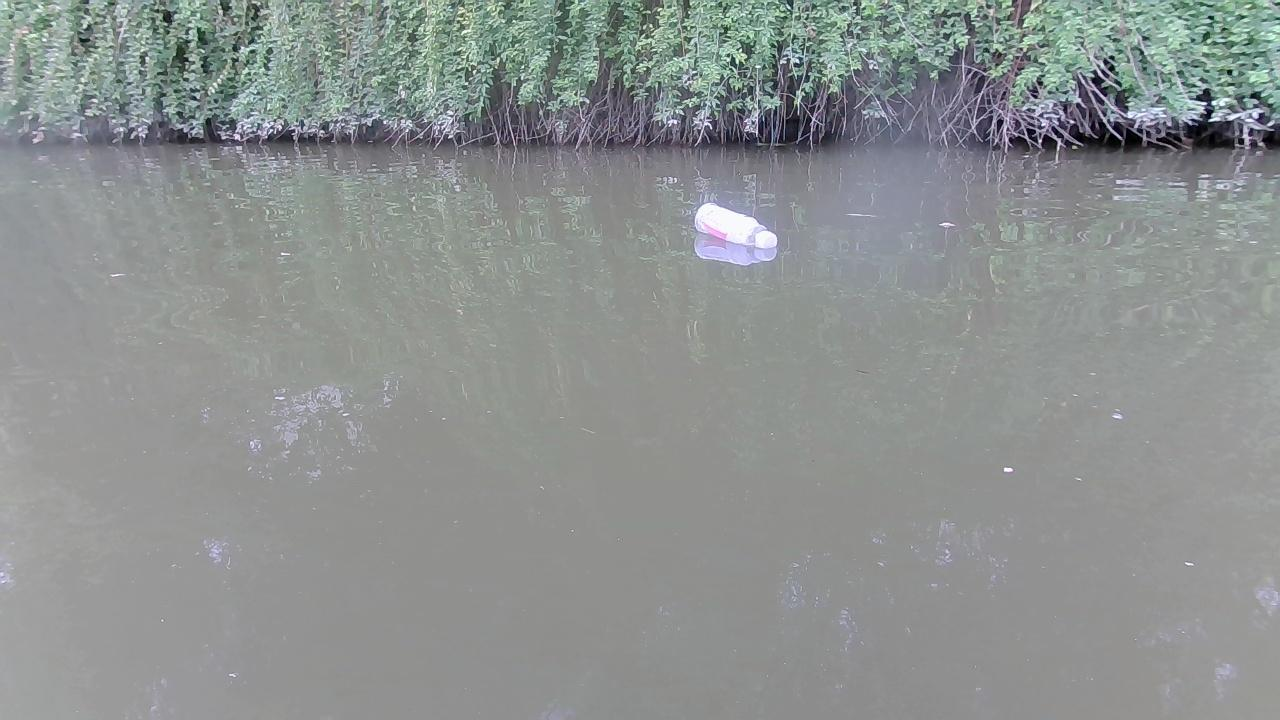bottle: (692, 200, 779, 249)
